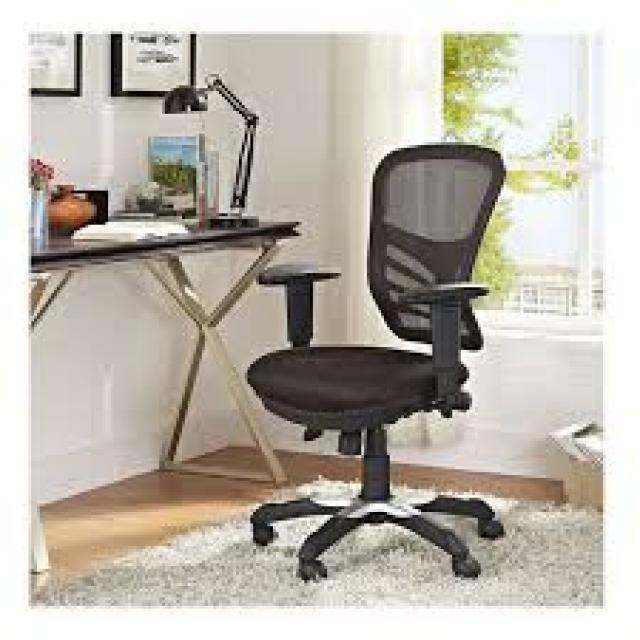chair: (245, 121, 520, 588)
